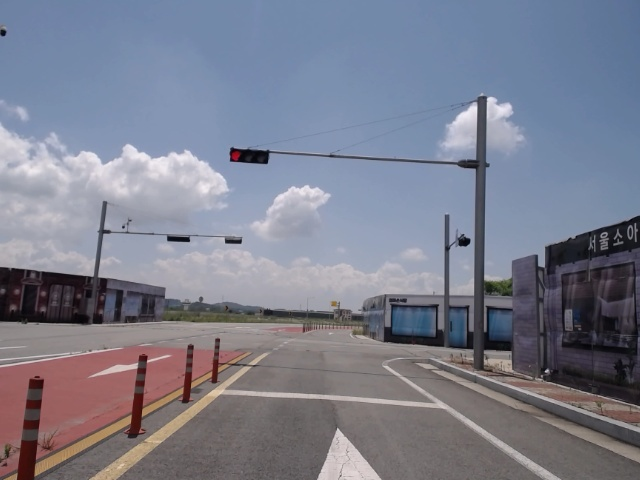red_3: (227, 146, 272, 164)
